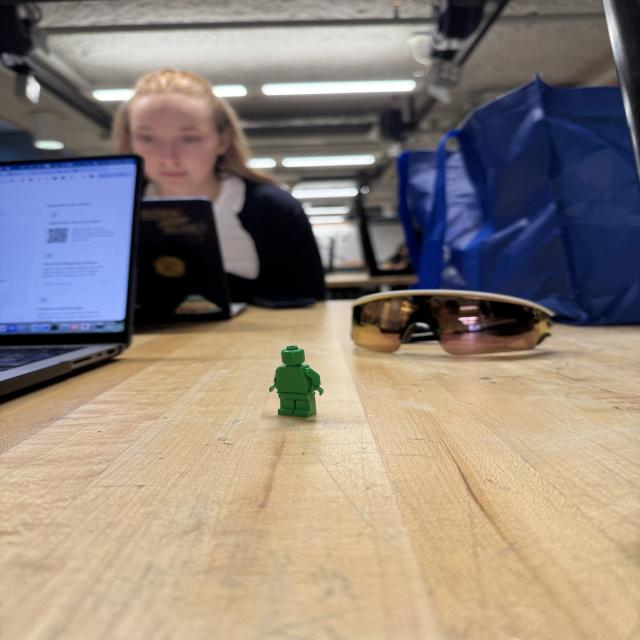Green Mini Figure: (269, 345, 323, 417)
